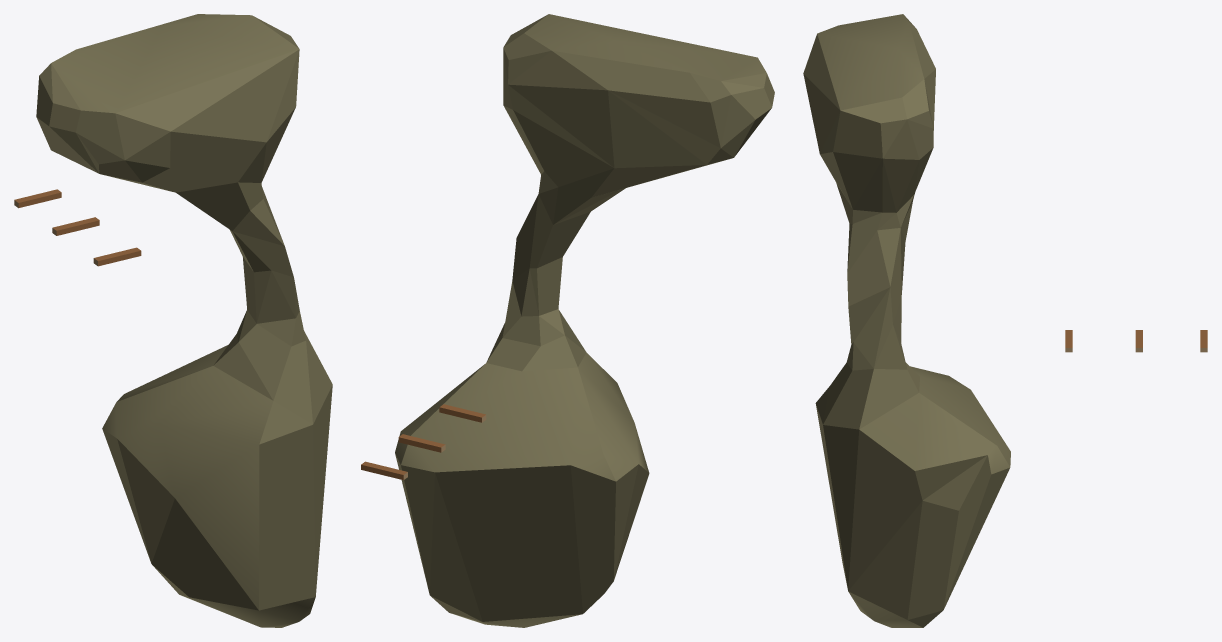
3 views of the same model, side by side, from view 1: azimuth 30°, elevation 25°; view 2: azimuth 150°, elevation 25°; view 3: azimuth 270°, elevation 25° (orthographic). The views are drawn at different scales.
Visible parts, largest first — view 1: Box1001_rock2_0, Box15493_brown_0, Box15492_brown_0; view 2: Box1001_rock2_0; view 3: Box1001_rock2_0.
Boxes of the visible parts, <box> form: Box1001_rock2_0: <box>36,14,332,627</box>; Box15493_brown_0: <box>52,217,99,235</box>; Box15492_brown_0: <box>14,189,61,207</box>; Box1001_rock2_0: <box>395,14,774,627</box>; Box1001_rock2_0: <box>803,14,1010,627</box>.
Size of the model in its own units: 1274 by 2411 by 1682.
